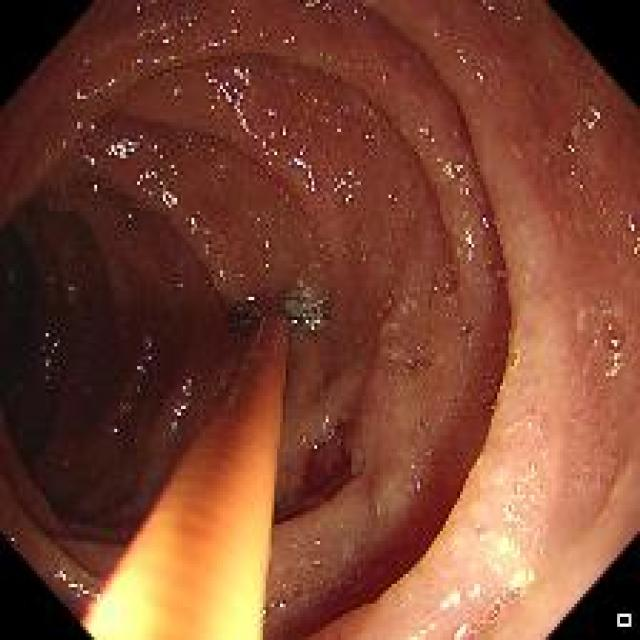blood: (288, 431, 359, 511)
bubbles: (292, 549, 363, 611), (417, 272, 471, 339), (392, 338, 433, 386), (596, 310, 627, 360), (478, 247, 507, 298), (523, 518, 553, 562), (292, 292, 322, 328), (560, 393, 586, 428), (307, 226, 327, 266), (488, 334, 511, 360), (402, 204, 422, 231), (501, 503, 524, 524), (608, 442, 627, 467), (503, 347, 523, 370), (501, 584, 525, 603), (452, 621, 477, 639), (417, 410, 432, 440), (476, 394, 496, 416), (386, 187, 404, 209), (457, 376, 473, 397), (533, 477, 550, 496), (482, 600, 498, 619), (490, 297, 506, 316), (424, 444, 439, 464), (526, 460, 543, 477), (455, 404, 471, 422), (564, 482, 575, 505), (565, 467, 580, 483), (454, 354, 469, 369), (523, 403, 537, 419), (515, 484, 526, 501), (532, 421, 544, 435), (609, 423, 620, 438), (275, 492, 285, 507), (448, 392, 457, 408), (438, 416, 447, 431), (211, 387, 219, 402)
color misalignment: (204, 70, 260, 141), (99, 128, 145, 167), (137, 12, 196, 42), (50, 565, 100, 600), (563, 125, 586, 193), (442, 77, 473, 125), (291, 146, 321, 193), (319, 46, 368, 73), (131, 332, 155, 385), (442, 156, 475, 190), (260, 127, 287, 168), (57, 272, 90, 305), (39, 331, 59, 381), (373, 237, 402, 271), (77, 73, 114, 99), (219, 372, 244, 410), (110, 394, 131, 435), (134, 167, 162, 197), (581, 98, 603, 134), (194, 29, 222, 55), (146, 47, 179, 68), (624, 207, 638, 254), (361, 98, 375, 141), (223, 7, 244, 35), (598, 197, 613, 235), (174, 378, 196, 402), (158, 180, 176, 209), (303, 0, 337, 15), (76, 136, 94, 164), (262, 64, 285, 85), (472, 63, 490, 89), (416, 123, 438, 143), (347, 3, 368, 23), (269, 591, 287, 614), (123, 49, 143, 69), (4, 257, 20, 281), (464, 233, 476, 265), (603, 361, 621, 382), (454, 44, 469, 64), (6, 531, 20, 551), (485, 0, 498, 18), (281, 33, 298, 46), (429, 24, 441, 40), (172, 278, 186, 291), (191, 225, 206, 237), (57, 138, 69, 153), (259, 260, 273, 272), (495, 266, 506, 281), (359, 252, 370, 267), (169, 84, 184, 95), (337, 102, 348, 115), (255, 27, 266, 39), (313, 559, 321, 573), (220, 273, 227, 285), (488, 257, 494, 269)
contrast: (1, 182, 134, 480)
instrument: (79, 296, 327, 634)
saturation: (464, 435, 617, 624), (83, 500, 164, 640)
specularity: (204, 70, 262, 143), (133, 13, 197, 42), (167, 379, 202, 426), (127, 334, 154, 393), (327, 163, 361, 209), (53, 568, 97, 602), (440, 155, 474, 197), (290, 146, 320, 193), (99, 134, 147, 163), (266, 582, 294, 624), (488, 526, 519, 562), (148, 139, 175, 175), (77, 73, 116, 97), (600, 351, 626, 386), (461, 223, 478, 269), (107, 404, 129, 439), (183, 212, 211, 239), (211, 257, 233, 291), (297, 89, 326, 114), (410, 121, 442, 143), (133, 166, 158, 194), (404, 468, 424, 503), (192, 29, 222, 52), (471, 62, 493, 93), (582, 102, 602, 135), (143, 50, 185, 65), (157, 180, 178, 209), (568, 157, 585, 192), (476, 525, 501, 548), (359, 95, 378, 125), (256, 232, 276, 257), (222, 8, 241, 34), (122, 54, 147, 72), (471, 212, 494, 231), (76, 140, 92, 165), (411, 622, 436, 638), (373, 68, 392, 89), (243, 287, 261, 309), (621, 212, 638, 235), (449, 583, 465, 607), (323, 420, 338, 445), (487, 558, 504, 580), (86, 175, 106, 192), (607, 334, 622, 356), (266, 127, 276, 159), (359, 128, 379, 144), (435, 599, 451, 619), (72, 114, 86, 136), (453, 45, 468, 65), (563, 130, 576, 153), (306, 435, 321, 454), (284, 33, 303, 47), (296, 427, 310, 445), (317, 410, 329, 429), (85, 119, 98, 136), (599, 200, 611, 218), (280, 125, 289, 141), (606, 320, 616, 334), (266, 104, 275, 117)
